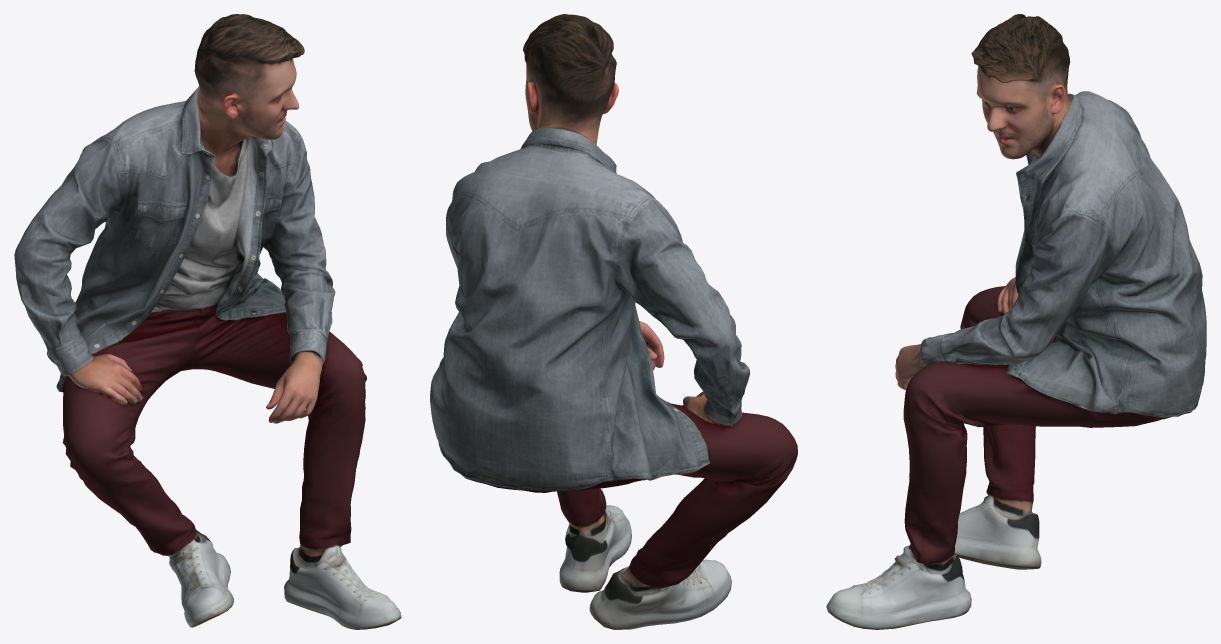
The model's file is Humano_Posed_0341842-Man_04_LOD1.fbx.
3 renders of one model, left to right at view 1: azimuth 30°, elevation 25°; view 2: azimuth 150°, elevation 25°; view 3: azimuth 270°, elevation 25°, orthographic. The views are drawn at different scales.
Visible parts, largest first — view 1: Humano_Posed_0341842-Man_04_LOD1; view 2: Humano_Posed_0341842-Man_04_LOD1; view 3: Humano_Posed_0341842-Man_04_LOD1.
Part boxes in pixels (x1,y1,x2,y2): Humano_Posed_0341842-Man_04_LOD1: [14, 14, 401, 629]; Humano_Posed_0341842-Man_04_LOD1: [430, 14, 797, 629]; Humano_Posed_0341842-Man_04_LOD1: [826, 14, 1206, 629].
Bounding box in the file's own units: 69.46 × 134 × 80.14.
1 material, 1 textured.
